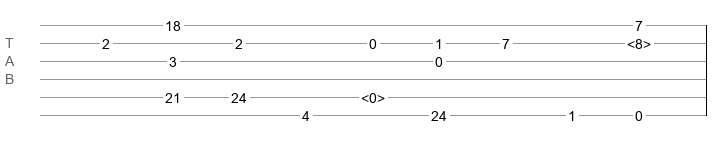0: (369, 36, 377, 46), (435, 54, 443, 64), (635, 108, 643, 118)
1: (435, 36, 443, 46), (568, 108, 576, 118)
18: (165, 18, 181, 28)
2: (102, 36, 110, 46), (235, 36, 243, 46)
21: (165, 90, 181, 100)
24: (231, 90, 247, 100), (431, 108, 447, 118)
3: (169, 54, 177, 64)
4: (302, 108, 310, 118)
7: (502, 36, 510, 46), (635, 18, 643, 28)
harmonic: (361, 90, 385, 100), (627, 36, 651, 46)
